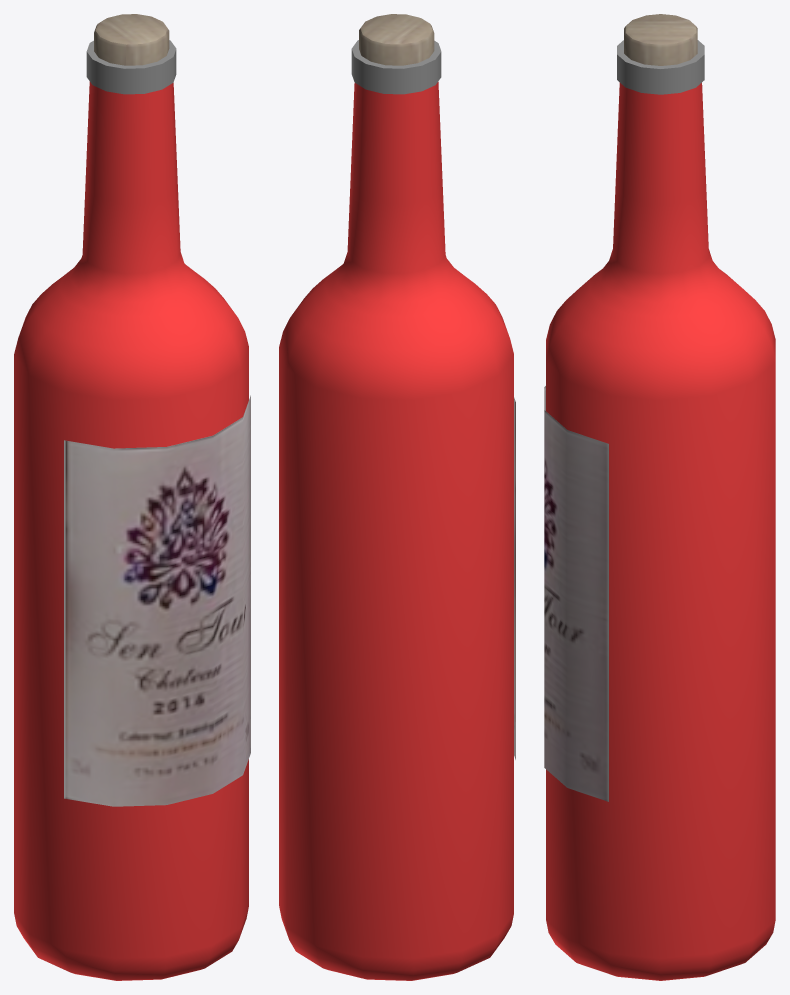
Rendered from SM_葡萄酒_002.FBX.
3 renders of one model, left to right at view 1: azimuth 30°, elevation 25°; view 2: azimuth 150°, elevation 25°; view 3: azimuth 270°, elevation 25°, orthographic.
Parts seen in each view (by area): view 1: SM_葡萄酒_瓶, SM_葡萄酒_瓶盖; view 2: SM_葡萄酒_瓶, SM_葡萄酒_瓶盖; view 3: SM_葡萄酒_瓶, SM_葡萄酒_瓶盖.
Part boxes in pixels (<box>): SM_葡萄酒_瓶: <box>14,40,250,980</box>; SM_葡萄酒_瓶盖: <box>94,14,169,65</box>; SM_葡萄酒_瓶: <box>279,40,515,980</box>; SM_葡萄酒_瓶盖: <box>359,14,434,65</box>; SM_葡萄酒_瓶: <box>544,40,775,980</box>; SM_葡萄酒_瓶盖: <box>624,14,697,65</box>.
Size of the model in its own units: 0.0581 by 0.2488 by 0.0571.
